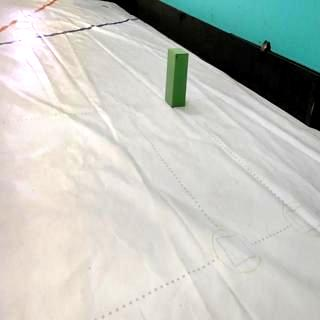greenbox: (165, 45, 190, 109)
